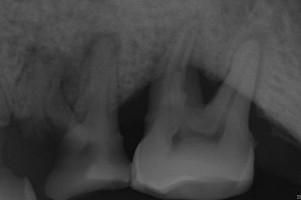Dental Caries: (16, 31, 122, 107)
Endo-Periodontal Lesion: (197, 67, 224, 105)
Furcation Involvement: (240, 24, 267, 80)
